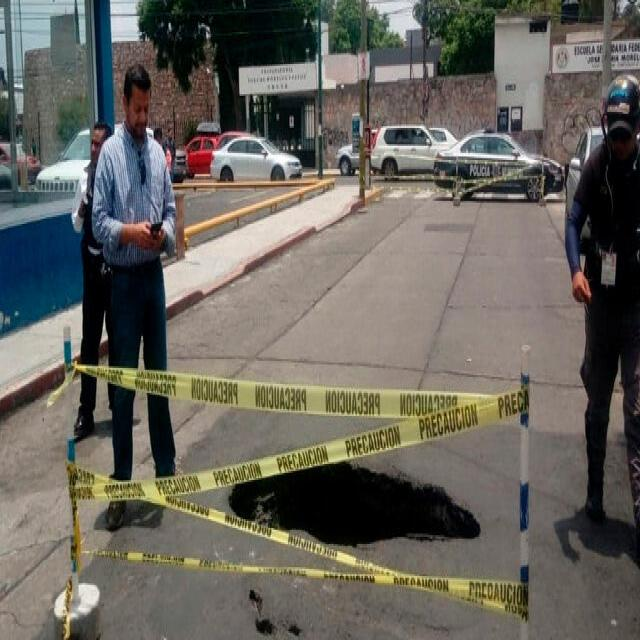Pothole: (222, 428, 498, 588)
